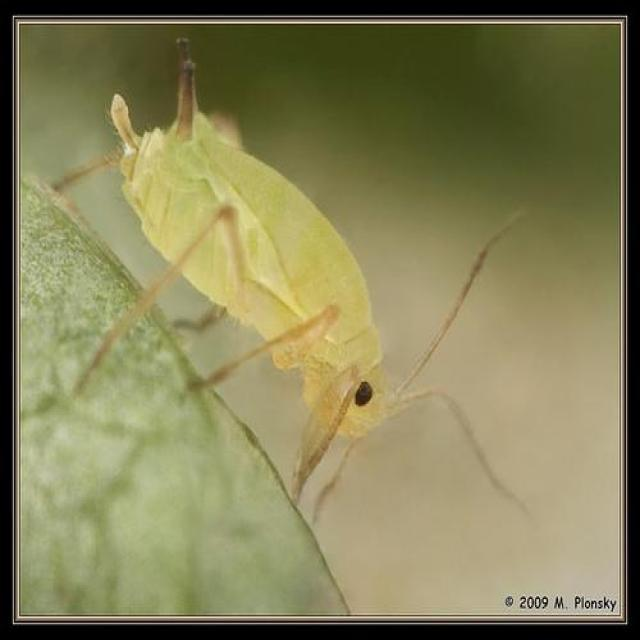aphid: (83, 46, 530, 546)
